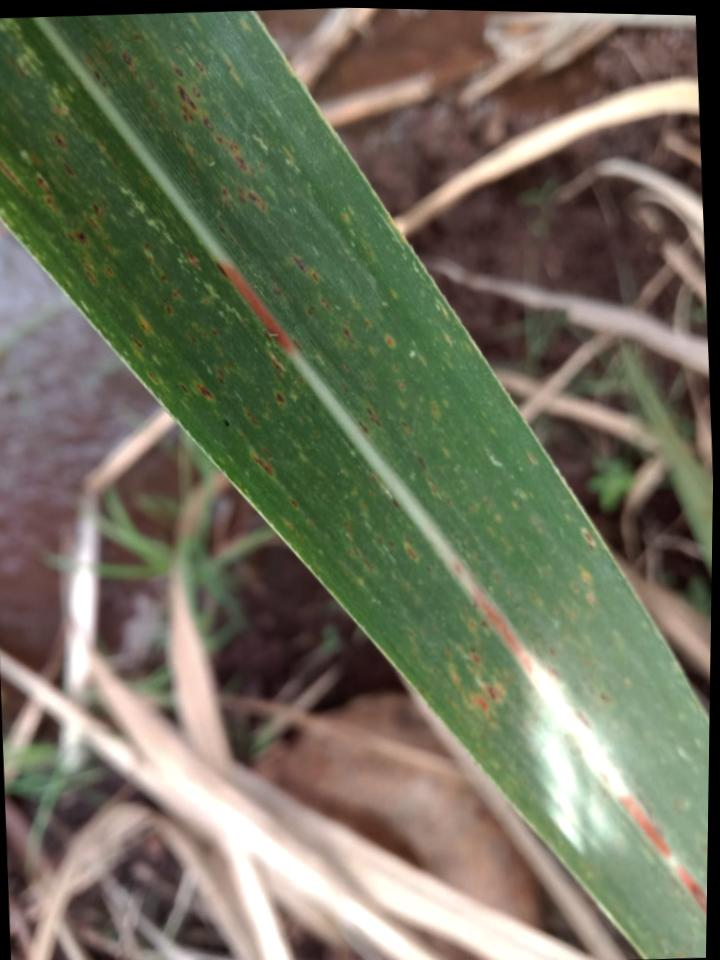RedRot: (454, 561, 533, 681), (217, 262, 301, 354), (614, 796, 673, 862), (671, 861, 707, 915)
Rust: (127, 237, 287, 433), (110, 39, 275, 217), (0, 98, 122, 251), (437, 613, 517, 736), (287, 249, 324, 286), (247, 444, 281, 484), (355, 401, 389, 440), (573, 522, 599, 552), (338, 324, 362, 350), (377, 331, 403, 353), (315, 292, 337, 314)
